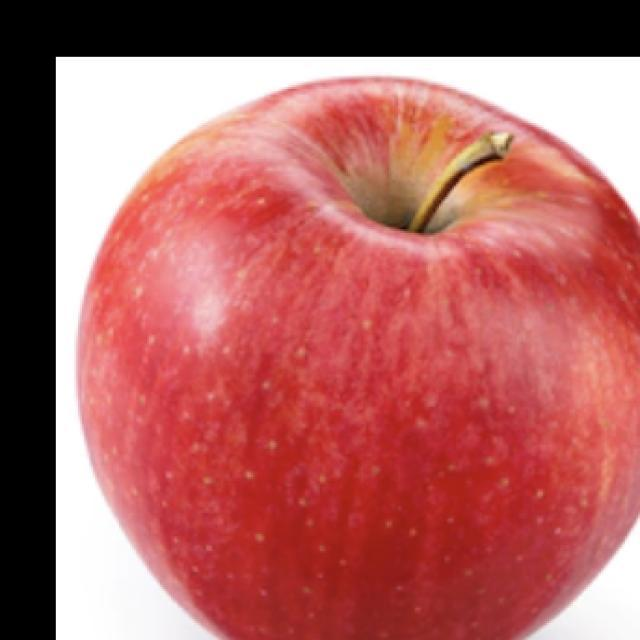Apple: (75, 74, 639, 639)
